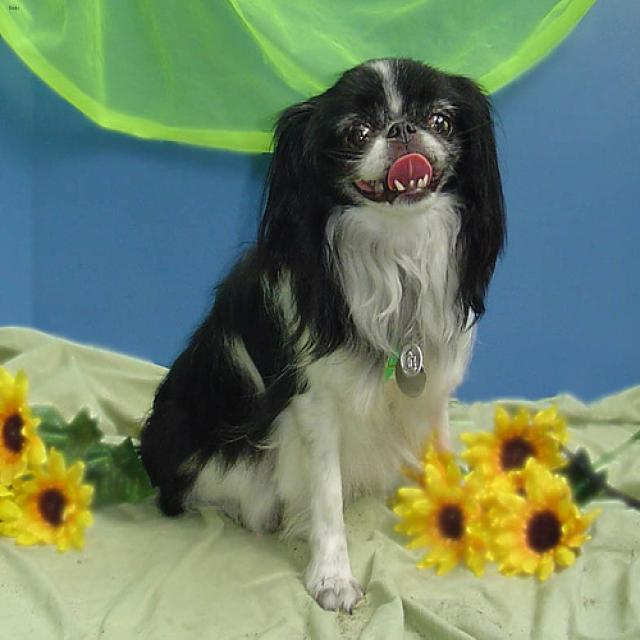dog-japanese_chin: (125, 45, 513, 626)
